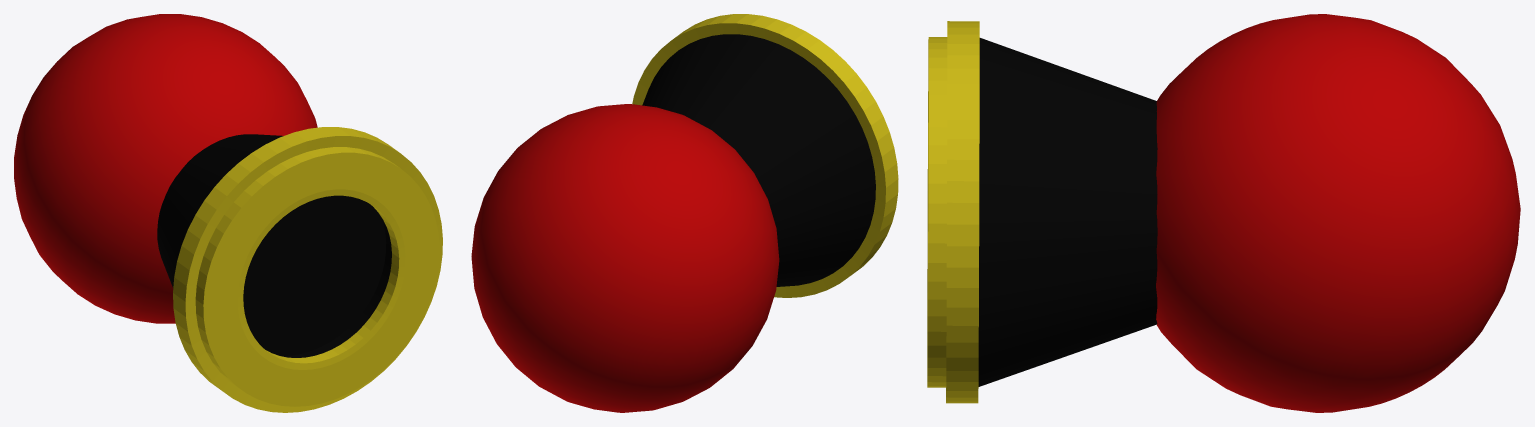
File: HorizontalCannon.obj
3 renders of one model, left to right at view 1: azimuth 30°, elevation 25°; view 2: azimuth 150°, elevation 25°; view 3: azimuth 270°, elevation 25°, orthographic. The views are drawn at different scales.
Visible parts, largest first — view 1: 球; view 2: 球; view 3: 球.
Boxes of the visible parts, <box> form: 球: <box>14,14,442,412</box>; 球: <box>471,14,898,412</box>; 球: <box>927,14,1520,412</box>.
Size of the model in its own units: 7.95 by 7.94 by 11.81.
